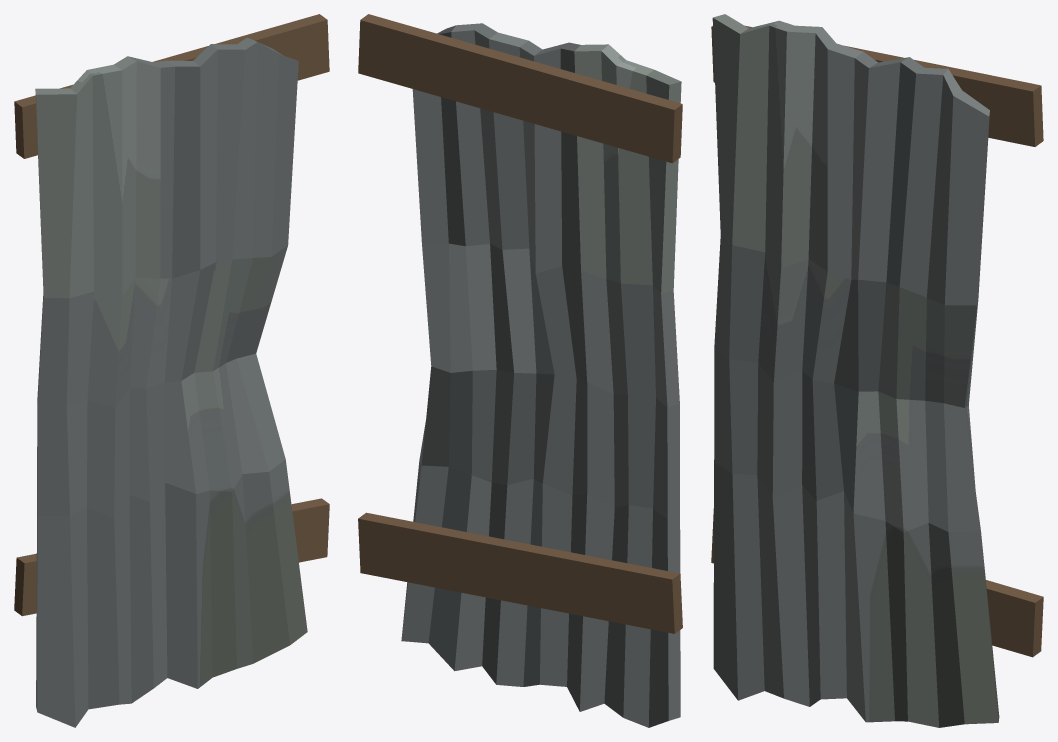
File: SM_Door_Baricade_D.fbx
3 views of the same model, side by side, from view 1: azimuth 30°, elevation 25°; view 2: azimuth 150°, elevation 25°; view 3: azimuth 330°, elevation 25° (orthographic). The views are drawn at different scales.
Visible parts, largest first — view 1: SM_Door_Baricade_D; view 2: SM_Door_Baricade_D; view 3: SM_Door_Baricade_D.
Boxes of the visible parts, x1,y1,x2,y2 form: SM_Door_Baricade_D: (14,14,329,727); SM_Door_Baricade_D: (358,14,682,727); SM_Door_Baricade_D: (711,14,1043,727).
Size of the model in its own units: 96.24 by 193 by 15.71.
